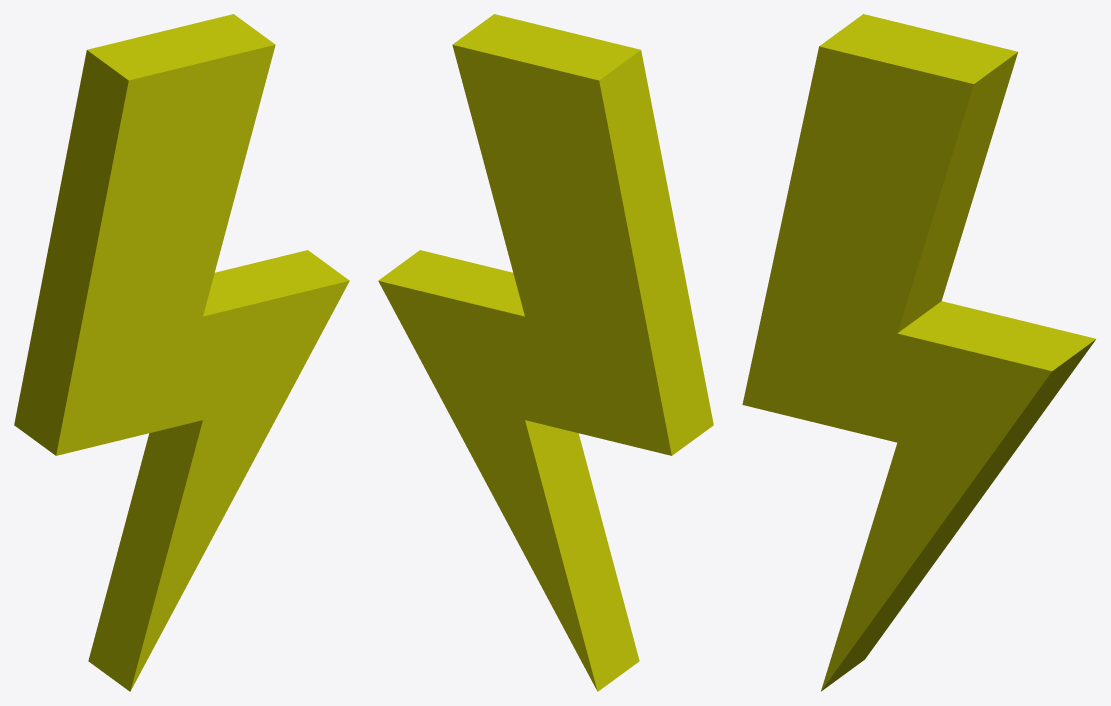
Rendered from bolt.fbx.
3 views of the same model, side by side, from view 1: azimuth 30°, elevation 25°; view 2: azimuth 150°, elevation 25°; view 3: azimuth 330°, elevation 25° (orthographic). The views are drawn at different scales.
Visible parts, largest first — view 1: bolt; view 2: bolt; view 3: bolt.
Part boxes in pixels (bbox=[...]): bolt: bbox=[14, 14, 349, 691]; bolt: bbox=[378, 14, 713, 691]; bolt: bbox=[742, 14, 1095, 691].
Bounding box in the file's own units: 0.8082 × 1.61 × 0.2.
Materials: 1 (1 with a texture image).
